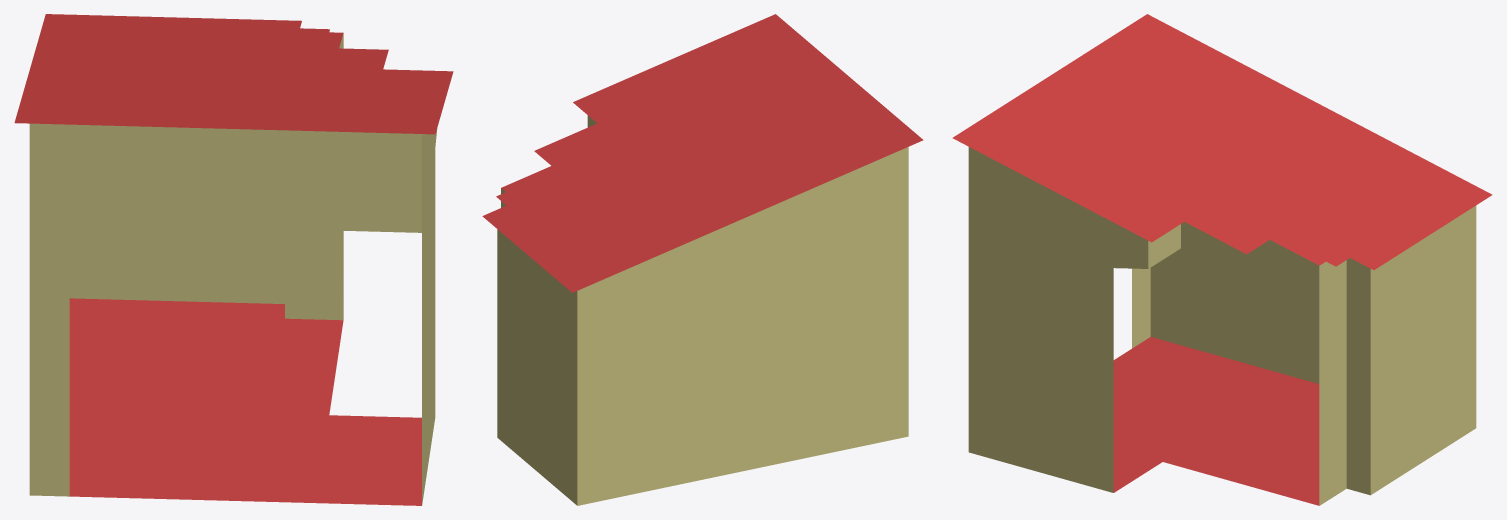
The picture shows the model from 3 angles, left to right: view 1: azimuth 30°, elevation 25°; view 2: azimuth 150°, elevation 25°; view 3: azimuth 270°, elevation 25°; orthographic projection. The views are drawn at different scales.
Size of the model in its own units: 17.85 by 22.64 by 14.59.
